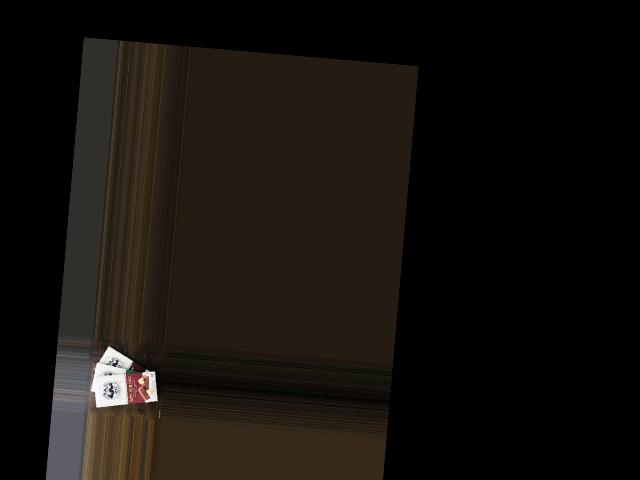chocolate: (91, 344, 161, 392)
